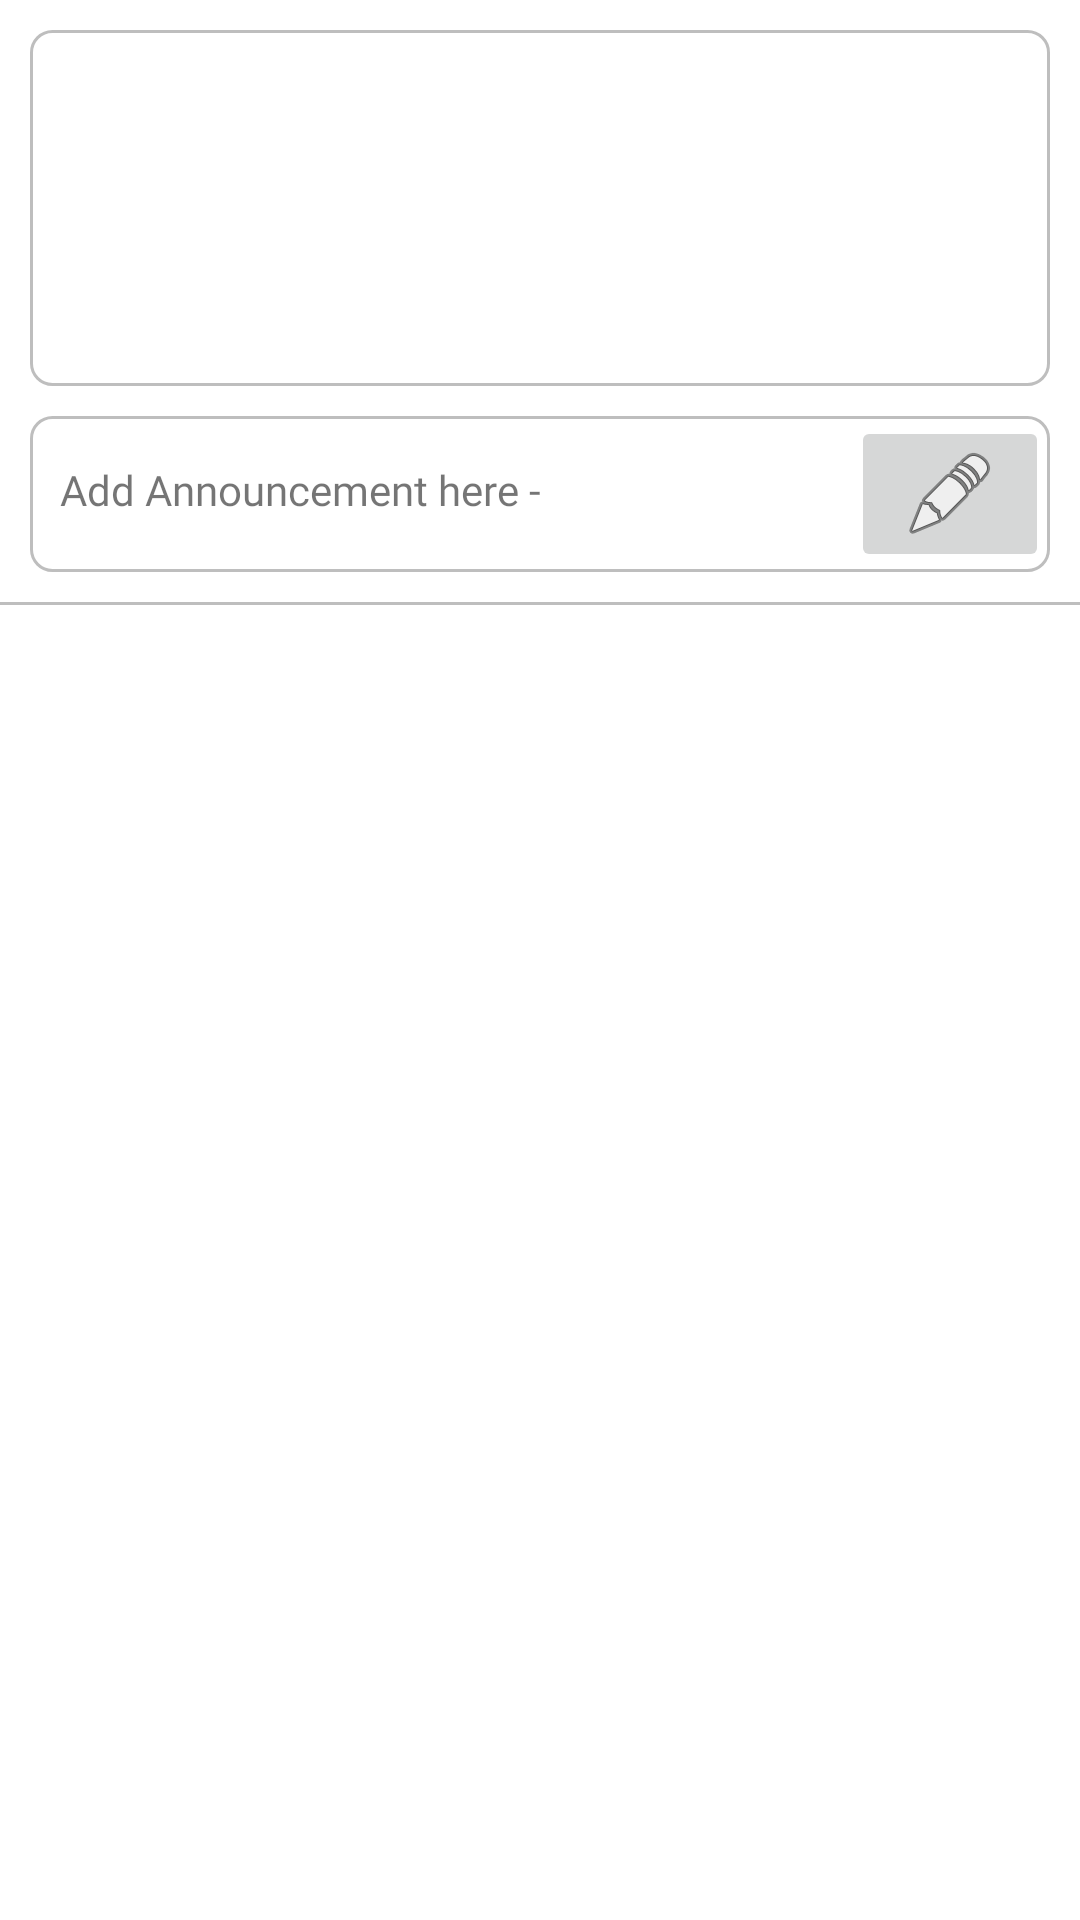

Named icons in this screenshot (1080 x 1920) and their centers, [x,y]:
edit: [950,494]
